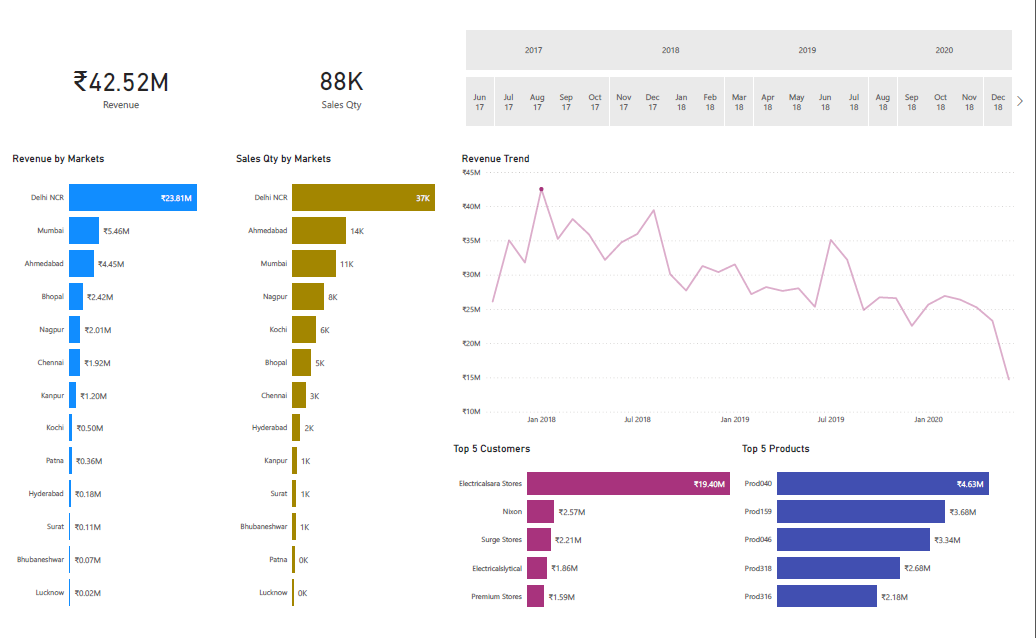

The page's visual inventory and layout, read from the dashboard file:
{"tool":"powerbi","page":{"name":"Page 1","canvas":[1680,1000],"ordinal":0},"visuals":[{"type":"card","fields":{"Values":["BaseMeasures.Revenue"]},"box":[0,0,369.3,225.5],"z":0},{"type":"card","fields":{"Values":["BaseMeasures.Sales Qty"]},"box":[369.3,0,359.3,223.6],"z":1000},{"type":"barChart","title":"Revenue by Markets","fields":{"Y":["BaseMeasures.Revenue"],"Category":["sales markets.markets_name"]},"box":[0,223.6,369.3,776.4],"z":2000},{"type":"barChart","title":"Sales Qty by Markets","fields":{"Y":["BaseMeasures.Sales Qty"],"Category":["sales markets.markets_name"]},"box":[369.3,223.6,359.3,776.4],"z":3000},{"type":"slicer","fields":{"Values":["sales date.year"]},"box":[728.5,16,952.1,77.8],"z":4000},{"type":"slicer","fields":{"Values":["sales date.cy_date"]},"box":[728.5,93.8,952.1,91.8],"z":5000},{"type":"barChart","title":"Top 5 Customers","fields":{"Category":["sales customers.custmer_name"],"Y":["BaseMeasures.Revenue"]},"box":[728.5,702.6,477,297.4],"z":6000},{"type":"barChart","title":"Top 5 Products","fields":{"Category":["sales transactions.product_code"],"Y":["BaseMeasures.Revenue"]},"box":[1205.6,702.6,445.1,297.4],"z":7000},{"type":"lineChart","title":"Revenue Trend","fields":{"Y":["BaseMeasures.Revenue"],"Category":["sales date.cy_date"]},"box":[728.5,223.6,952.1,459.1],"z":8000}]}

Visuals, with their boxes on the page's 1680x1000 design canvas (x1, y1, x2, y2). These are canvas units, not pixel positions in the 1036x638 screenshot, which may show the page scaled, cropped or inside an application window:
card - BaseMeasures.Revenue: 0, 0, 369, 226
card - BaseMeasures.Sales Qty: 369, 0, 729, 224
"Revenue by Markets" barChart: 0, 224, 369, 1000
"Sales Qty by Markets" barChart: 369, 224, 729, 1000
slicer - sales date.year: 728, 16, 1681, 94
slicer - sales date.cy_date: 728, 94, 1681, 186
"Top 5 Customers" barChart: 728, 703, 1206, 1000
"Top 5 Products" barChart: 1206, 703, 1651, 1000
"Revenue Trend" lineChart: 728, 224, 1681, 683
